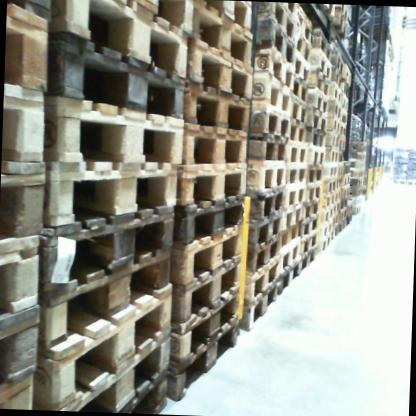pallet: (39, 277, 177, 408), (40, 200, 183, 321), (42, 241, 177, 353), (47, 93, 183, 185), (52, 34, 190, 123), (43, 152, 182, 238), (54, 0, 193, 82), (65, 325, 175, 411), (174, 316, 242, 406), (171, 284, 241, 366), (1, 78, 56, 176), (177, 252, 245, 330), (169, 221, 247, 287), (186, 37, 254, 109), (4, 10, 55, 104), (174, 159, 252, 218), (0, 230, 47, 327), (174, 189, 244, 253), (193, 1, 256, 69), (0, 156, 49, 240), (0, 307, 42, 399), (180, 119, 251, 171), (183, 90, 253, 135), (240, 255, 288, 312), (191, 2, 255, 35), (253, 73, 296, 122), (242, 275, 281, 327), (258, 17, 298, 66), (123, 377, 176, 413), (253, 48, 295, 92), (256, 5, 298, 47), (250, 104, 296, 142), (0, 369, 42, 409), (243, 211, 286, 248), (247, 133, 292, 167), (245, 185, 288, 219), (245, 157, 289, 190), (240, 238, 283, 270), (308, 32, 340, 75), (8, 0, 55, 25), (309, 43, 333, 83), (308, 63, 337, 96), (277, 261, 304, 296), (289, 132, 311, 170), (286, 162, 310, 196), (310, 80, 332, 117), (278, 239, 302, 272), (275, 225, 305, 250), (287, 175, 307, 212), (286, 112, 306, 147), (286, 200, 309, 229), (291, 69, 310, 104), (293, 49, 310, 85), (298, 13, 317, 45), (294, 33, 313, 63), (293, 99, 310, 131), (302, 230, 320, 258), (304, 183, 323, 209), (297, 201, 321, 221), (334, 13, 349, 44), (297, 246, 316, 269), (309, 127, 328, 150), (306, 150, 327, 169), (309, 112, 327, 132), (323, 171, 340, 192), (322, 160, 339, 180), (301, 213, 317, 234), (331, 70, 343, 98), (307, 163, 325, 181), (320, 219, 335, 238), (320, 192, 338, 207), (327, 144, 340, 161), (331, 84, 342, 104), (328, 114, 340, 132), (325, 128, 340, 142), (319, 206, 335, 219), (344, 68, 353, 90), (339, 53, 346, 81), (343, 94, 353, 113), (320, 237, 332, 251), (332, 107, 343, 122), (337, 161, 345, 176), (340, 121, 347, 138), (340, 137, 346, 155), (404, 178, 416, 187), (391, 178, 405, 185)
